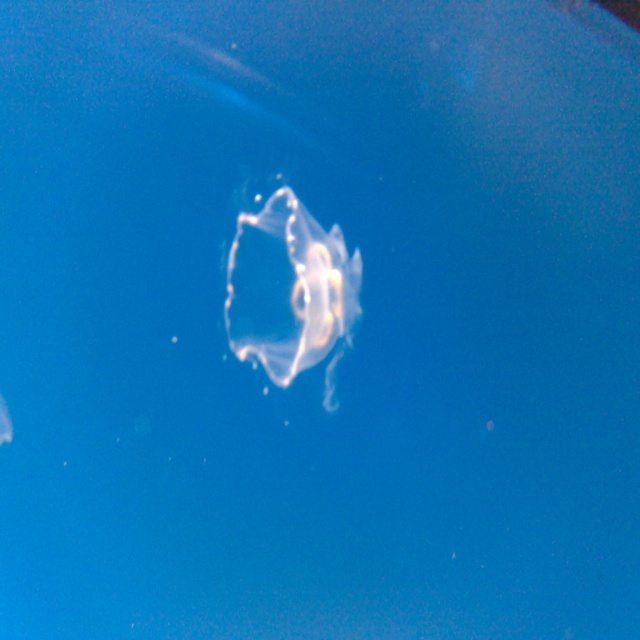Jellyfish: (218, 150, 366, 414)
